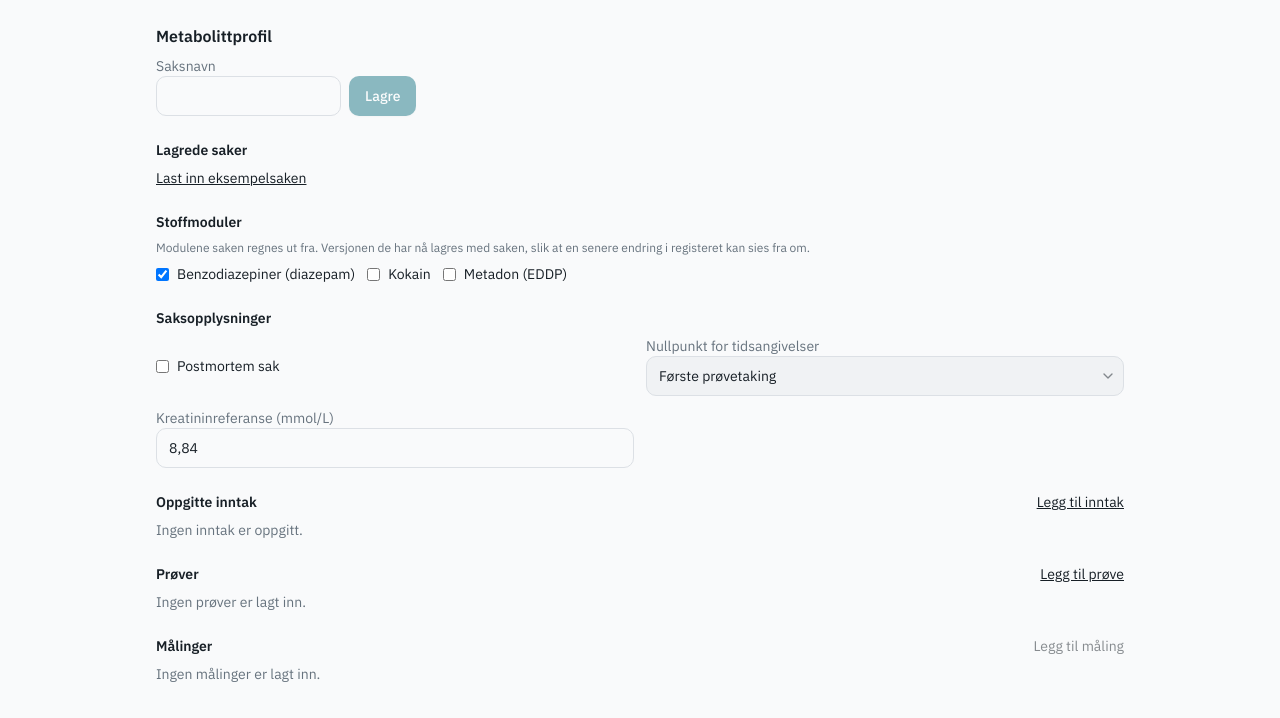
Test: the pattern case route › will not file a case while a field holds something it cannot take
Type "Ny sak" into the field labelled "Saksnavn" at (248, 96), box [156,76,341,116]
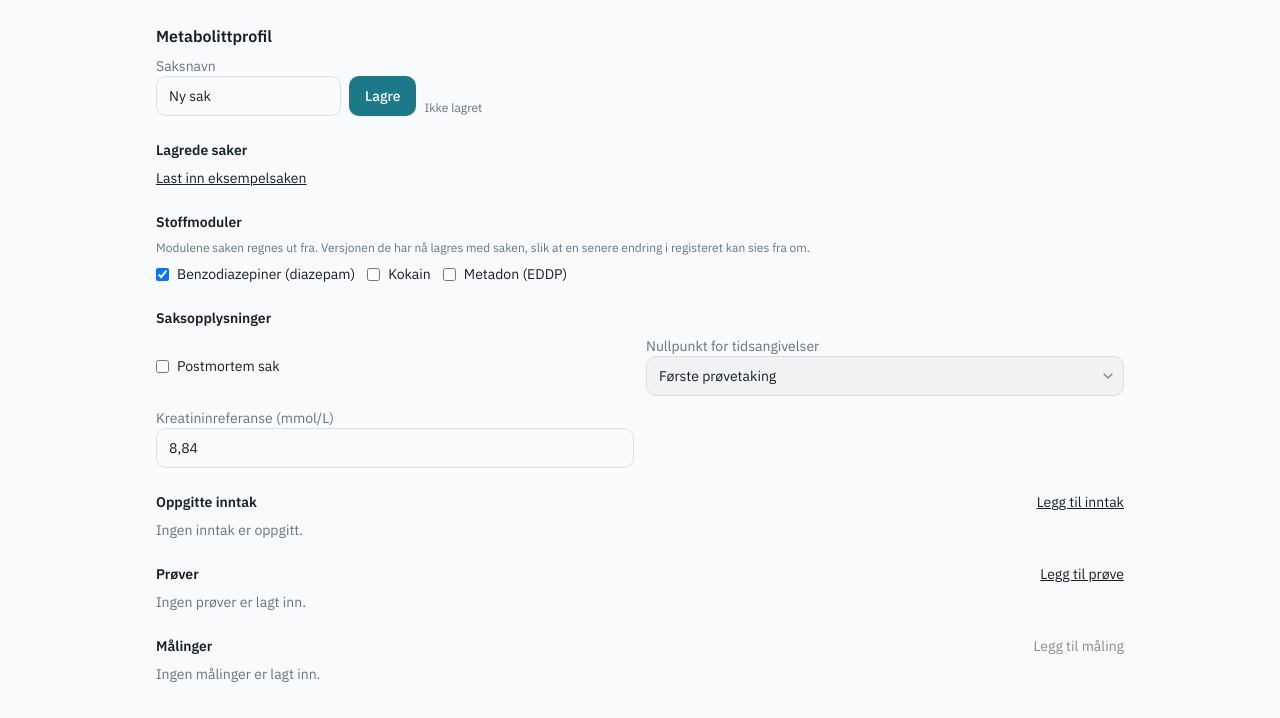
Click the button "Legg til prøve" at (1082, 574), box [1040,564,1124,584]
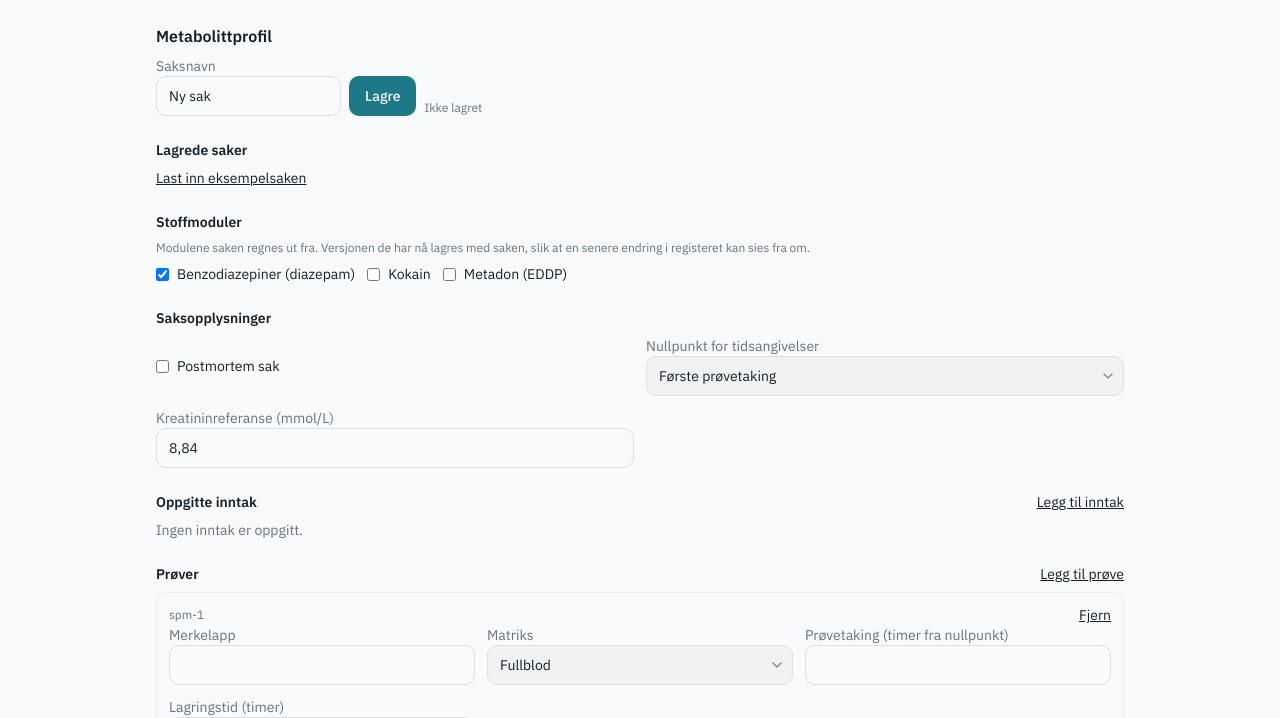
Type "1,500" into the field labelled "Prøvetaking (timer fra nullpunkt)" at (958, 665), box [805,645,1111,685]
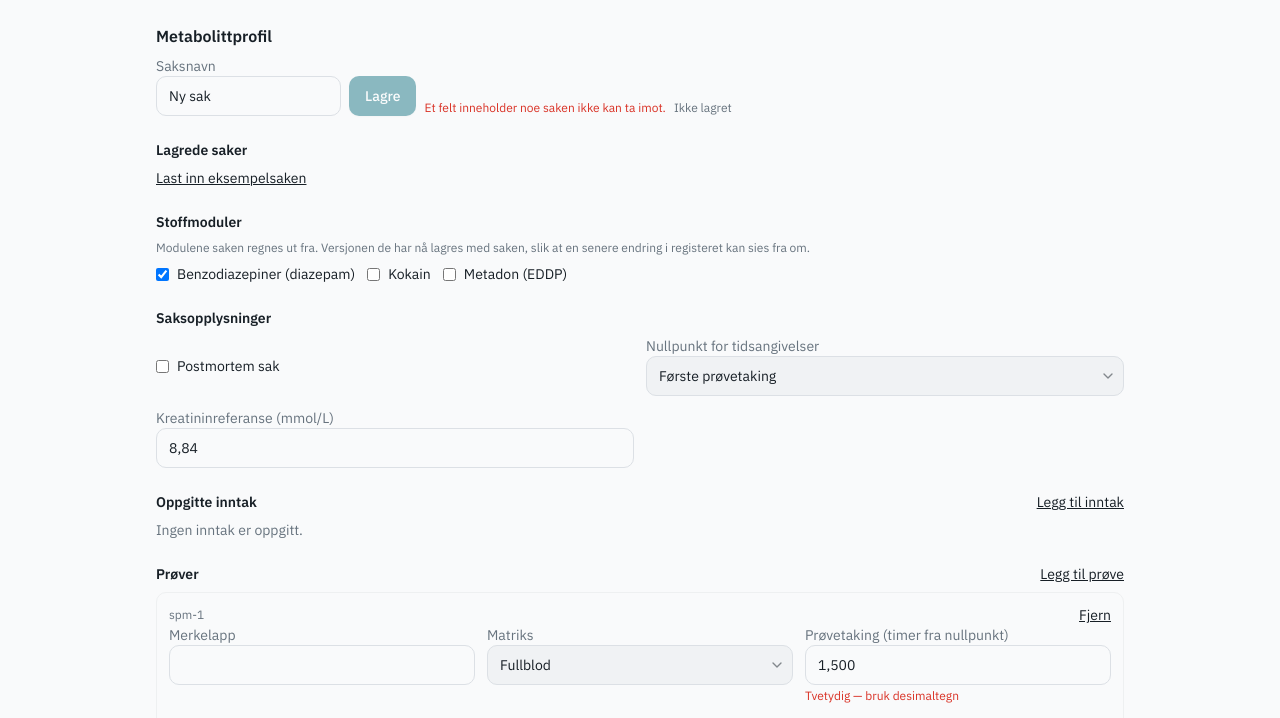
expect the button "Lagre" is disabled: met, box [349,76,416,116]
expect the text "Et felt inneholder noe saken ikke kan ta imot." is shown: met, box [424,100,666,116]
Replace the text in the field labelled "Prøvetaking (timer fra nullpunkt)" with "0" at (958, 665), box [805,645,1111,685]
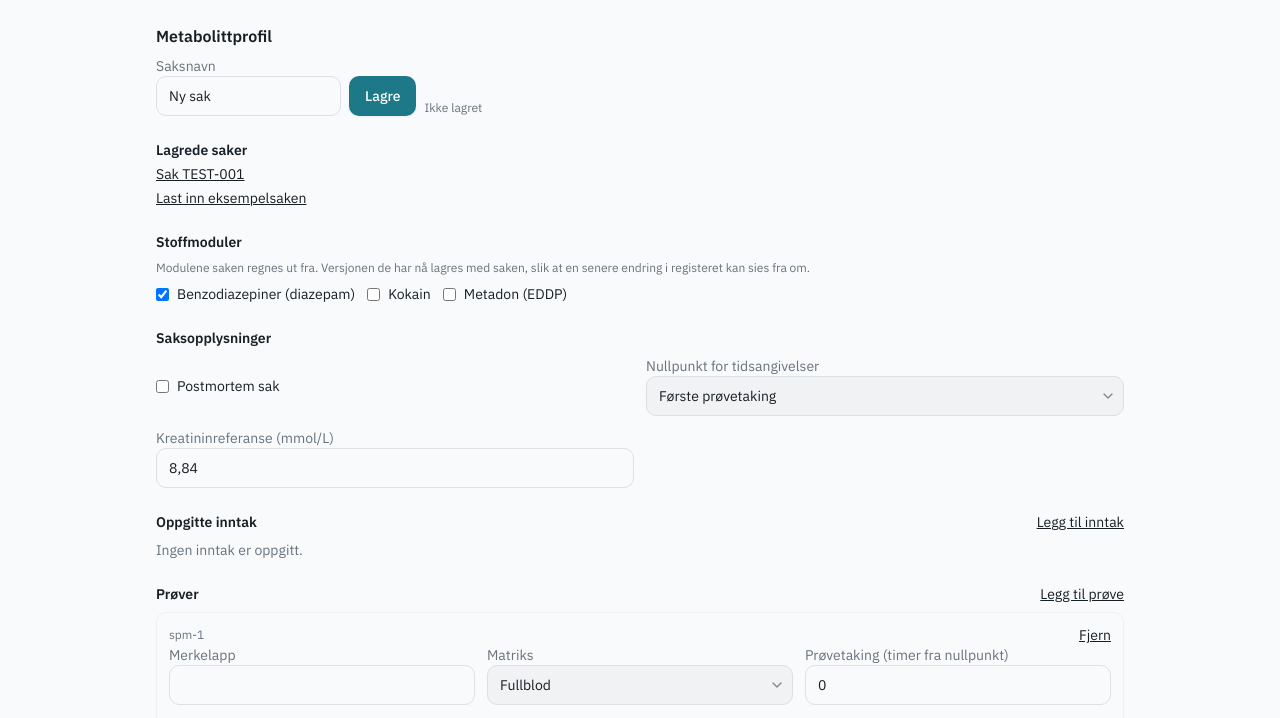
expect the button "Lagre" is enabled: met, box [349,76,416,116]
